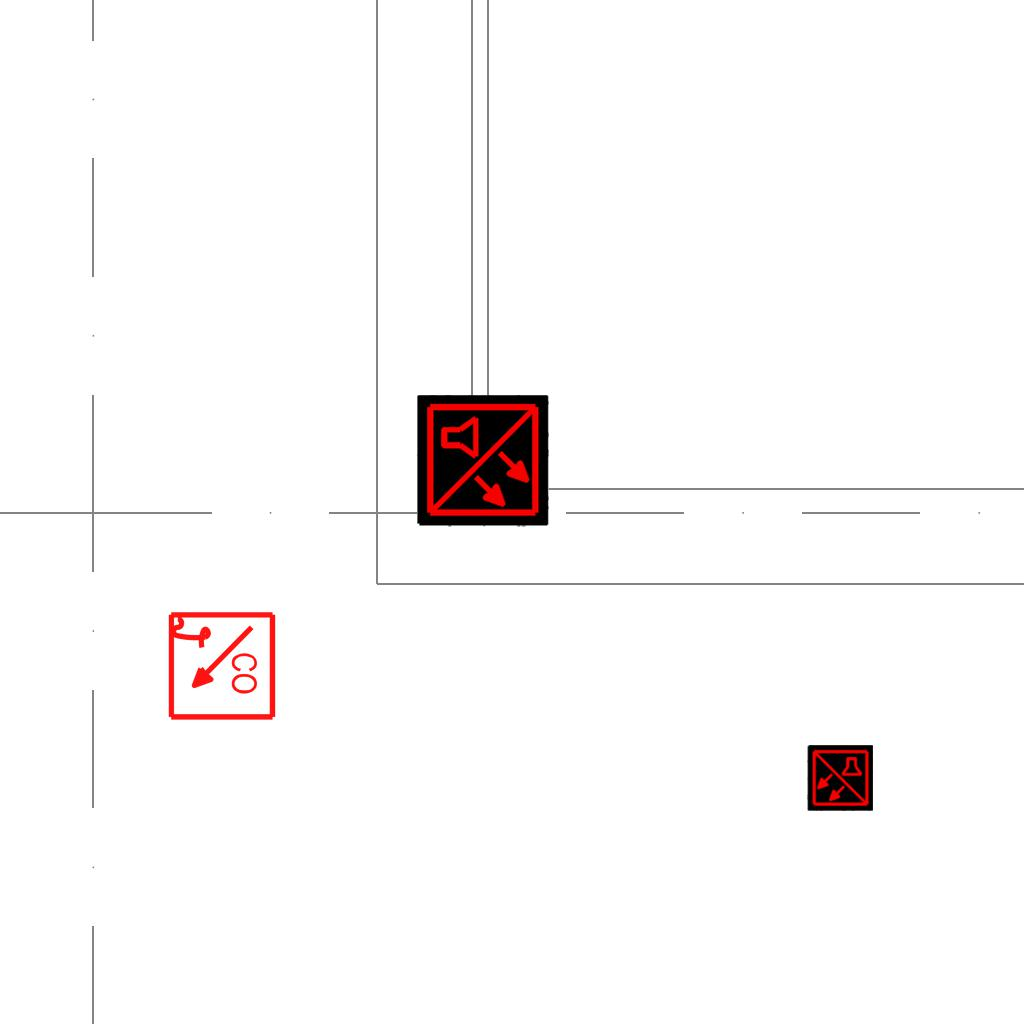OKW_Multisensormelder_(Kombination_optischer_Rauch-Kahlenmonoxid_Waerme-Melder): (417, 395, 549, 527), (807, 745, 873, 811)
ROA_Rauchmelder_optisch_mit_Signalgeber_(Sockelsirene): (164, 610, 277, 723)
